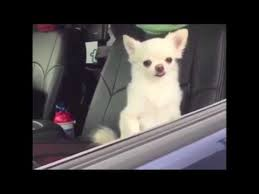chihuahua: (115, 26, 190, 136)
